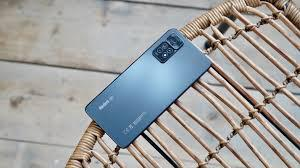Smartphone: (83, 41, 214, 146)
